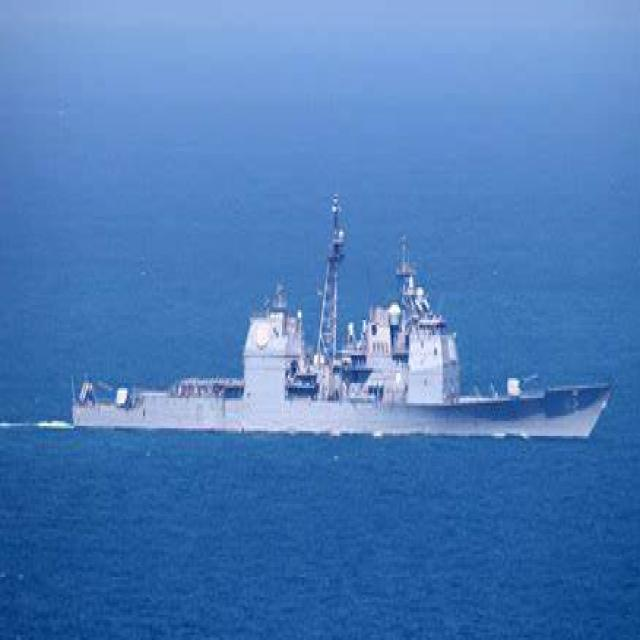navalvessels: (64, 222, 629, 440)
